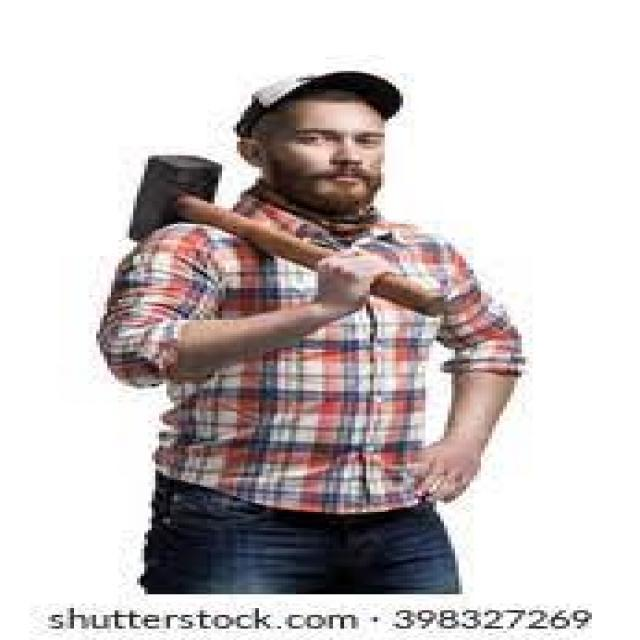hammer: (102, 137, 476, 309)
